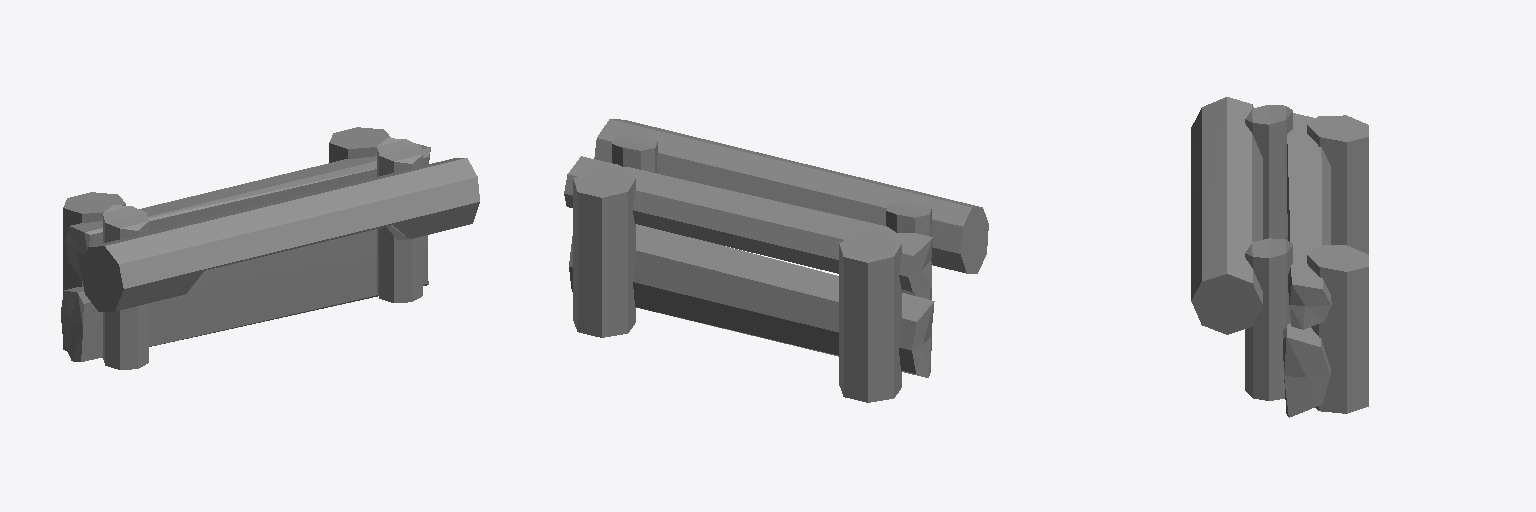
Rendered from bench.obj.
3 renders of one model, left to right at view 1: azimuth 30°, elevation 25°; view 2: azimuth 150°, elevation 25°; view 3: azimuth 270°, elevation 25°, orthographic.
Parts seen in each view (by area): view 1: hatka_local_.008_hatka_local_.001; view 2: hatka_local_.008_hatka_local_.001; view 3: hatka_local_.008_hatka_local_.001.
Boxes of the visible parts, <box> form: hatka_local_.008_hatka_local_.001: <box>61,127,479,369</box>; hatka_local_.008_hatka_local_.001: <box>564,119,988,402</box>; hatka_local_.008_hatka_local_.001: <box>1191,97,1368,417</box>.
Bounding box in the file's own units: 0.4139 × 0.1694 × 0.1721.